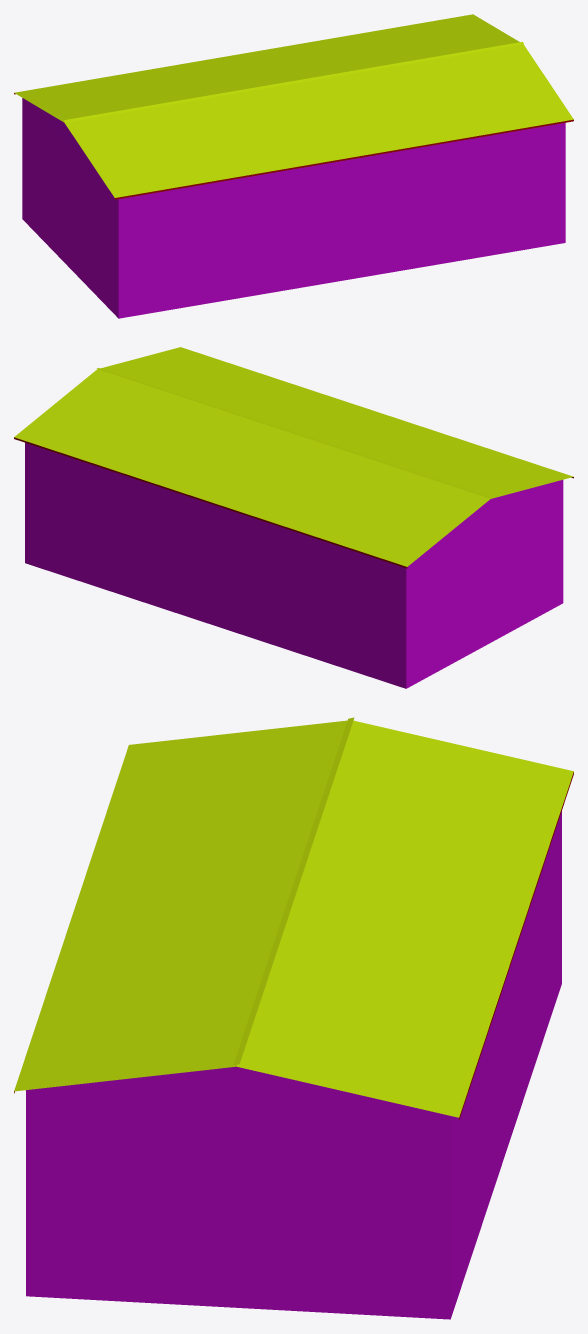
File: rmc_149.glb
3 views of the same model, one above another, from view 1: azimuth 30°, elevation 25°; view 2: azimuth 150°, elevation 25°; view 3: azimuth 270°, elevation 25° (orthographic). The views are drawn at different scales.
Parts seen in each view (by area): view 1: rmc_149; view 2: rmc_149; view 3: rmc_149.
Part boxes in pixels (<box>): rmc_149: <box>14,14,573,318</box>; rmc_149: <box>14,347,573,688</box>; rmc_149: <box>14,717,573,1319</box>.
Size of the model in its own units: 33.16 by 10.35 by 21.04.
